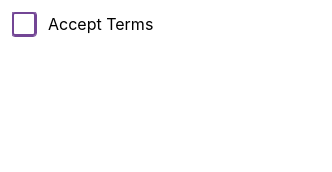
Test case: CheckboxField › updates the input checked state on user click
This screenshot has width=332, height=172.
Click the checkbox labelled "Accept Terms".
click(24, 24)  # box [12,12,36,36]
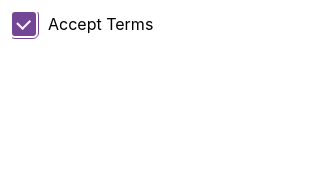
Expected: the checkbox labelled "Accept Terms" is checked, [12,12,36,36]
